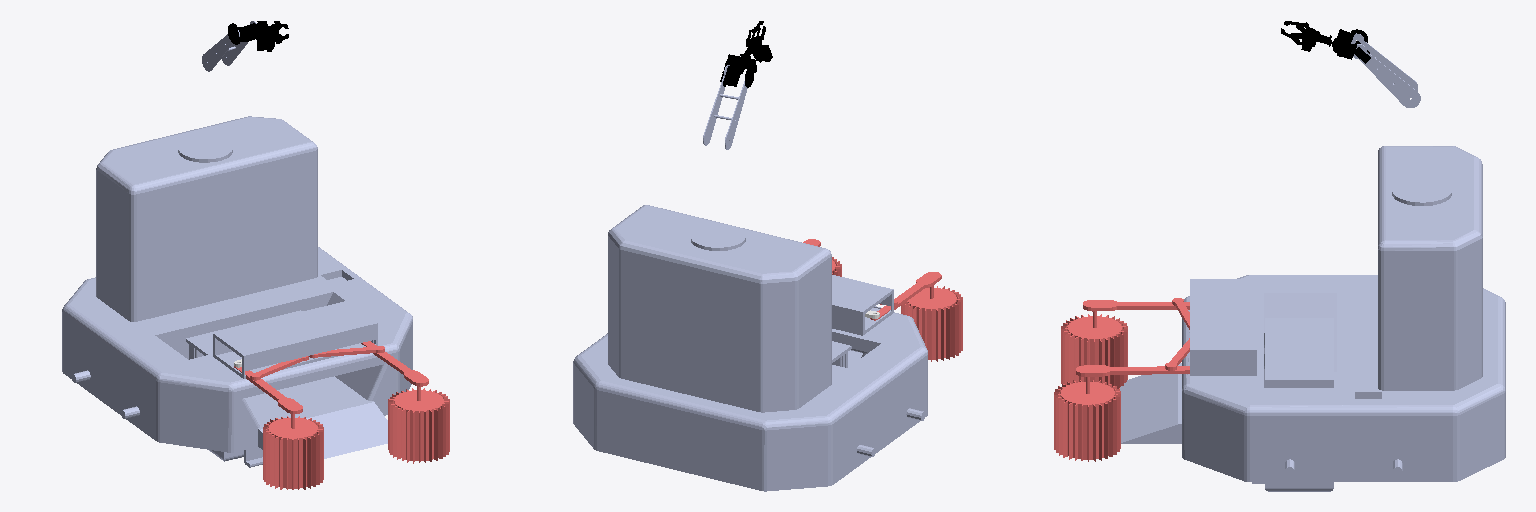
The robot description file, URDF, robot "toilet_cleaning_bot":
<?xml version="1.0" encoding="utf-8"?>
<!-- This URDF was automatically created by SolidWorks to URDF Exporter! Originally created by [author] ([email redacted])
     Commit Version: 1.6.0-1-g15f4949  Build Version: 1.6.7594.29634
     For more information, please see http://wiki.ros.org/sw_urdf_exporter -->
<robot
  name="toilet_cleaning_bot">
  <link
    name="base_link">
    <inertial>
      <origin
        xyz="0.40109 0.36844 0.563"
        rpy="0 0 0" />
      <mass
        value="160.21" />
      <inertia
        ixx="6.5937"
        ixy="0.0029926"
        ixz="-0.00082692"
        iyy="12.559"
        iyz="0.12266"
        izz="8.2635" />
    </inertial>
    <visual>
      <origin
        xyz="0 0 0"
        rpy="0 0 0" />
      <geometry>
        <mesh
          filename="package://washroom_cleaner/meshes/base_link.STL" />
      </geometry>
      <material
        name="">
        <color
          rgba="0.79216 0.81961 0.93333 1" />
      </material>
    </visual>
    <collision>
      <origin
        xyz="0 0 0"
        rpy="0 0 0" />
      <geometry>
        <mesh
          filename="package://washroom_cleaner/meshes/base_link.STL" />
      </geometry>
    </collision>
  </link>
  <link
    name="link_1">
    <inertial>
      <origin
        xyz="-0.035039 0.20575 0.13323"
        rpy="0 0 0" />
      <mass
        value="5.5621" />
      <inertia
        ixx="0.013333"
        ixy="-0.00022175"
        ixz="3.9698E-06"
        iyy="0.013796"
        iyz="3.312E-06"
        izz="0.021334" />
    </inertial>
    <visual>
      <origin
        xyz="0 0 0"
        rpy="0 0 0" />
      <geometry>
        <mesh
          filename="package://washroom_cleaner/meshes/link_1.STL" />
      </geometry>
      <material
        name="">
        <color
          rgba="0.25098 0.25098 0.25098 1" />
      </material>
    </visual>
    <collision>
      <origin
        xyz="0 0 0"
        rpy="0 0 0" />
      <geometry>
        <mesh
          filename="package://washroom_cleaner/meshes/link_1.STL" />
      </geometry>
    </collision>
  </link>
  <joint
    name="joint_1"
    type="fixed">
    <origin
      xyz="0.27699 -0.62513 0.49989"
      rpy="-1.5708 -0.34065 -1.5708" />
    <parent
      link="base_link" />
    <child
      link="link_1" />
    <axis
      xyz="0 0 0" />
  </joint>
  <link
    name="link_1.1">
    <inertial>
      <origin
        xyz="-0.026117 0.15728 -0.010906"
        rpy="0 0 0" />
      <mass
        value="4.4265" />
      <inertia
        ixx="0.049934"
        ixy="0.007674"
        ixz="0.00052707"
        iyy="0.062713"
        iyz="0.0029422"
        izz="0.086055" />
    </inertial>
    <visual>
      <origin
        xyz="0 0 0"
        rpy="0 0 0" />
      <geometry>
        <mesh
          filename="package://washroom_cleaner/meshes/link_1.1.STL" />
      </geometry>
      <material
        name="">
        <color
          rgba="0.79216 0.81961 0.93333 1" />
      </material>
    </visual>
    <collision>
      <origin
        xyz="0 0 0"
        rpy="0 0 0" />
      <geometry>
        <mesh
          filename="package://washroom_cleaner/meshes/link_1.1.STL" />
      </geometry>
    </collision>
  </link>
  <joint
    name="joint_1.1"
    type="fixed">
    <origin
      xyz="0.078034 0.21007 0.11645"
      rpy="0.34065 -1.5708 0" />
    <parent
      link="link_1" />
    <child
      link="link_1.1" />
    <axis
      xyz="0 0 0" />
  </joint>
  <link
    name="link_1.2">
    <inertial>
      <origin
        xyz="-0.00702860471577926 -0.000130771120940731 0.0296200021732783"
        rpy="0 0 0" />
      <mass
        value="0.151435450174544" />
      <inertia
        ixx="8.93402775522686E-05"
        ixy="-2.78967418953546E-08"
        ixz="1.08518099802283E-05"
        iyy="9.29662903831726E-05"
        iyz="1.95890478711304E-08"
        izz="0.000150338419401213" />
    </inertial>
    <visual>
      <origin
        xyz="0 0 0"
        rpy="0 0 0" />
      <geometry>
        <mesh
          filename="package://washroom_cleaner/meshes/link_1.2.STL" />
      </geometry>
      <material
        name="">
        <color
          rgba="0.501960784313725 0.501960784313725 0.501960784313725 1" />
      </material>
    </visual>
    <collision>
      <origin
        xyz="0 0 0"
        rpy="0 0 0" />
      <geometry>
        <mesh
          filename="package://washroom_cleaner/meshes/link_1.2.STL" />
      </geometry>
    </collision>
  </link>
  <joint
    name="joint_1.2"
    type="revolute">
    <origin
      xyz="-0.02917 -0.39539 0.12422"
      rpy="-1.5708 -1.4713 -2.8009" />
    <parent
      link="link_1" />
    <child
      link="link_1.2" />
    <axis
      xyz="0 0 1" />
    <limit
      lower="3.14"
      upper="0"
      effort="0"
      velocity="0" />
  </joint>
  <link
    name="link_1.2.1">
    <inertial>
      <origin
        xyz="0.0580655494615208 0.0013300729572176 0.0142754823090114"
        rpy="0 0 0" />
      <mass
        value="0.083649973397503" />
      <inertia
        ixx="2.13379078089922E-05"
        ixy="1.43500733218594E-06"
        ixz="1.41338643742856E-06"
        iyy="0.000109256671317035"
        iyz="-3.43509398476217E-08"
        izz="0.000107189795764206" />
    </inertial>
    <visual>
      <origin
        xyz="0 0 0"
        rpy="0 0 0" />
      <geometry>
        <mesh
          filename="package://washroom_cleaner/meshes/link_1.2.1.STL" />
      </geometry>
      <material
        name="">
        <color
          rgba="0.792156862745098 0.819607843137255 0.933333333333333 1" />
      </material>
    </visual>
    <collision>
      <origin
        xyz="0 0 0"
        rpy="0 0 0" />
      <geometry>
        <mesh
          filename="package://washroom_cleaner/meshes/link_1.2.1.STL" />
      </geometry>
    </collision>
  </link>
  <joint
    name="joint_1.2.1"
    type="revolute">
    <origin
      xyz="0 0 0.033695"
      rpy="0 -1.2217 -1.5708" />
    <parent
      link="link_1.2" />
    <child
      link="link_1.2.1" />
    <axis
      xyz="0.93969 0 0.34202" />
    <limit
      lower="3.14"
      upper="0"
      effort="0"
      velocity="0" />
  </joint>
  <link
    name="link_1.2.1-2">
    <inertial>
      <origin
        xyz="-0.129120759127459 -0.000969520216186681 -0.014695438196705"
        rpy="0 0 0" />
      <mass
        value="0.0550083133869526" />
      <inertia
        ixx="8.16092041413149E-06"
        ixy="-2.84603070277445E-19"
        ixz="1.22078623523026E-19"
        iyy="0.000214945524527617"
        iyz="1.35525271560688E-20"
        izz="0.000220874250417479" />
    </inertial>
    <visual>
      <origin
        xyz="0 0 0"
        rpy="0 0 0" />
      <geometry>
        <mesh
          filename="package://washroom_cleaner/meshes/link_1.2.1-2.STL" />
      </geometry>
      <material
        name="">
        <color
          rgba="0.792156862745098 0.819607843137255 0.933333333333333 1" />
      </material>
    </visual>
    <collision>
      <origin
        xyz="0 0 0"
        rpy="0 0 0" />
      <geometry>
        <mesh
          filename="package://washroom_cleaner/meshes/link_1.2.1-2.STL" />
      </geometry>
    </collision>
  </link>
  <joint
    name="joint_1.2.1-2"
    type="revolute">
    <origin
      xyz="0.10218 0 0.03719"
      rpy="-1.5708 -0.4149 -3.1416" />
    <parent
      link="link_1.2.1" />
    <child
      link="link_1.2.1-2" />
    <axis
      xyz="0.7221 0.69179 0" />
    <limit
      lower="3.14"
      upper="0"
      effort="0"
      velocity="0" />
  </joint>
  <link
    name="Link">
    <inertial>
      <origin
        xyz="0.187048315606572 0.0201228496753148 -0.124647198388031"
        rpy="0 0 0" />
      <mass
        value="0.158326205342065" />
      <inertia
        ixx="3.46195149015416E-05"
        ixy="-1.68893148018067E-07"
        ixz="-2.7533004565103E-07"
        iyy="3.1703173224957E-05"
        iyz="-2.95285123650717E-07"
        izz="3.89884403632016E-05" />
    </inertial>
    <visual>
      <origin
        xyz="0 0 0"
        rpy="0 0 0" />
      <geometry>
        <mesh
          filename="package://washroom_cleaner/meshes/Link.STL" />
      </geometry>
      <material
        name="">
        <color
          rgba="0 0 0 1" />
      </material>
    </visual>
    <collision>
      <origin
        xyz="0 0 0"
        rpy="0 0 0" />
      <geometry>
        <mesh
          filename="package://washroom_cleaner/meshes/Link.STL" />
      </geometry>
    </collision>
  </link>
  <joint
    name="joint"
    type="fixed">
    <origin
      xyz="-0.095207 -0.09121 0"
      rpy="-1.5708 0 -3.1416" />
    <parent
      link="link_1.2.1-2" />
    <child
      link="Link" />
    <axis
      xyz="0 0 0" />
  </joint>
  <link
    name="link_2">
    <inertial>
      <origin
        xyz="0 0 0"
        rpy="0 0 0" />
      <mass
        value="0" />
      <inertia
        ixx="0"
        ixy="0"
        ixz="0"
        iyy="0"
        iyz="0"
        izz="0" />
    </inertial>
    <visual>
      <origin
        xyz="0 0 0"
        rpy="0 0 0" />
      <geometry>
        <mesh
          filename="package://washroom_cleaner/meshes/link_2.STL" />
      </geometry>
      <material
        name="">
        <color
          rgba="1 1 1 1" />
      </material>
    </visual>
    <collision>
      <origin
        xyz="0 0 0"
        rpy="0 0 0" />
      <geometry>
        <mesh
          filename="package://washroom_cleaner/meshes/link_2.STL" />
      </geometry>
    </collision>
  </link>
  <joint
    name="joint_2"
    type="revolute">
    <origin
      xyz="0.36371 -0.96374 0.36981"
      rpy="1.5708 0 0.072106" />
    <parent
      link="base_link" />
    <child
      link="link_2" />
    <axis
      xyz="0 1 0" />
    <limit
      lower="3.14"
      upper="0"
      effort="0"
      velocity="0" />
  </joint>
  <link
    name="link_2.1">
    <inertial>
      <origin
        xyz="-0.159302367714984 -0.121667828083279 0.191496939311499"
        rpy="0 0 0" />
      <mass
        value="4.88576945217599" />
      <inertia
        ixx="0.0182504857476174"
        ixy="-0.00308030713845039"
        ixz="8.43868314392727E-05"
        iyy="0.0164743625405019"
        iyz="4.8103045526283E-05"
        izz="0.0226935778071188" />
    </inertial>
    <visual>
      <origin
        xyz="0 0 0"
        rpy="0 0 0" />
      <geometry>
        <mesh
          filename="package://washroom_cleaner/meshes/link_2.1.STL" />
      </geometry>
      <material
        name="">
        <color
          rgba="1 0.501960784313725 0.501960784313725 1" />
      </material>
    </visual>
    <collision>
      <origin
        xyz="0 0 0"
        rpy="0 0 0" />
      <geometry>
        <mesh
          filename="package://washroom_cleaner/meshes/link_2.1.STL" />
      </geometry>
    </collision>
  </link>
  <joint
    name="joint_2.1"
    type="revolute">
    <origin
      xyz="-0.16411 -0.01 0.13706"
      rpy="0 1.4907 0" />
    <parent
      link="link_2" />
    <child
      link="link_2.1" />
    <axis
      xyz="0 0 0" />
    <limit
      lower="3.14"
      upper="0"
      effort="0"
      velocity="0" />
  </joint>
</robot>

--- What the picture shows (computed from the rendered views, not written in the file) ---
3 views of the same robot in one strip: view 1: azimuth 30°, elevation 25°; view 2: azimuth 150°, elevation 25°; view 3: azimuth 270°, elevation 25° (orthographic).
Model toilet_cleaning_bot with 9 links and 8 joints (5 revolute, 3 fixed), rooted at base_link, posed all joints at 0.
Links seen in each view (by area): view 1: base_link, link_2.1, link_1.1, Link, link_1.2.1-2; view 2: base_link, link_2.1, Link, link_1.2.1-2; view 3: base_link, link_2.1, link_1.1, link_1.2.1-2, Link.
Boxes of the visible links, left/top/right/bottom form: base_link: left=62, top=116, right=412, bottom=458; link_2.1: left=234, top=341, right=449, bottom=489; link_1.1: left=186, top=310, right=302, bottom=467; Link: left=228, top=21, right=288, bottom=51; link_1.2.1-2: left=202, top=21, right=256, bottom=71; base_link: left=573, top=205, right=927, bottom=491; link_2.1: left=803, top=239, right=962, bottom=361; Link: left=720, top=21, right=772, bottom=87; link_1.2.1-2: left=703, top=65, right=747, bottom=149; base_link: left=1120, top=146, right=1505, bottom=481; link_2.1: left=1054, top=298, right=1189, bottom=461; link_1.1: left=1252, top=318, right=1333, bottom=491; link_1.2.1-2: left=1351, top=33, right=1420, bottom=107; Link: left=1281, top=21, right=1370, bottom=63.
Bounding box of the posed robot: 0.891 × 1.11 × 1.25 m (x, y, z).
Meshes: 9 distinct files referenced, 6 mesh visuals loaded (6 binary STL); not drawn: 3 (reference not matched to a file when rendering).